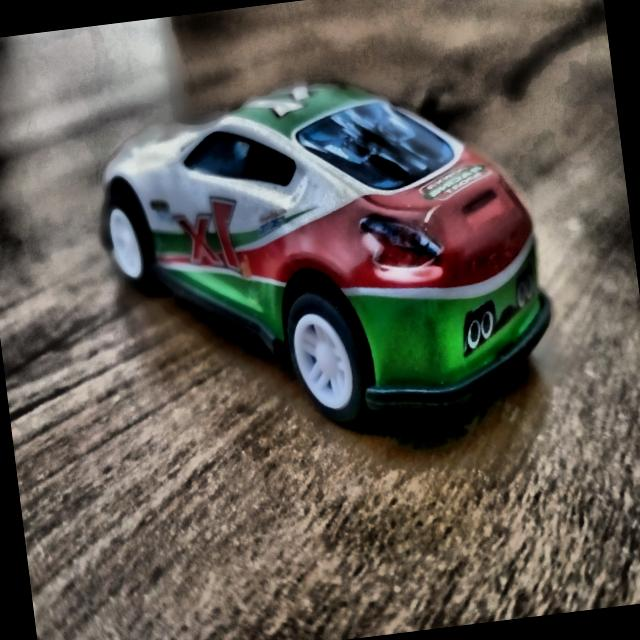Car: (91, 57, 559, 454)
